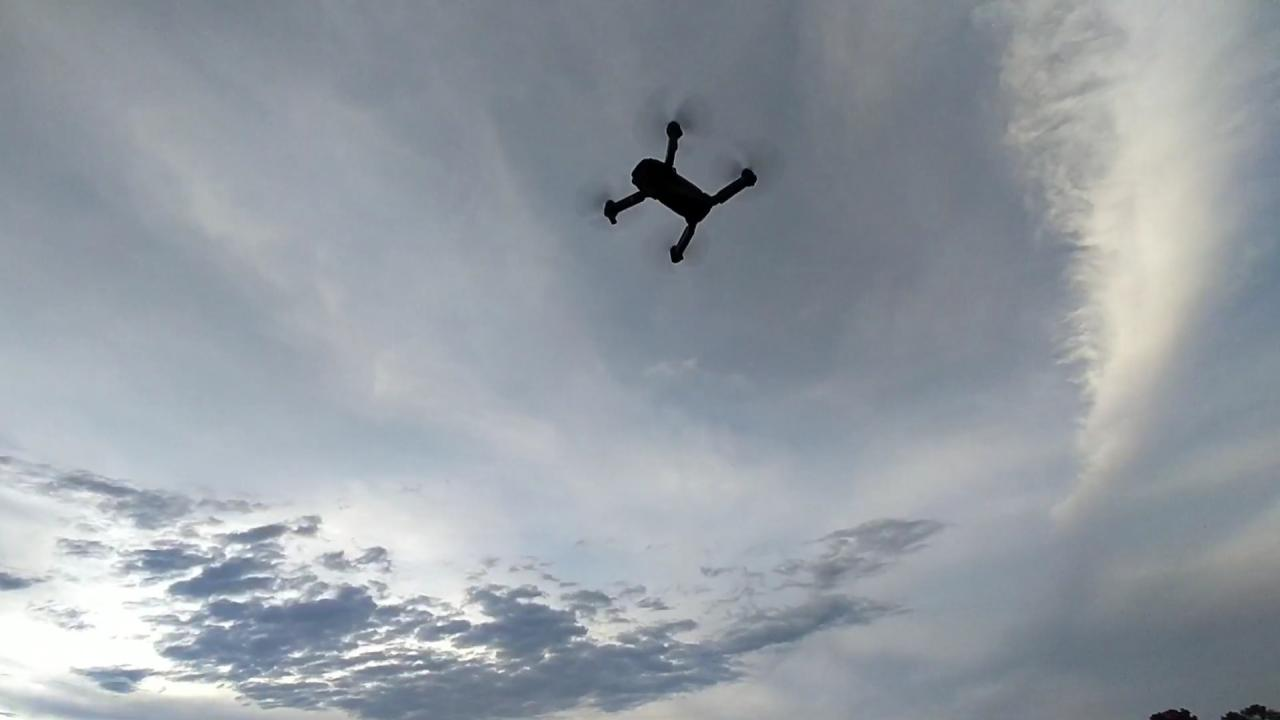Drone: (574, 86, 783, 285)
